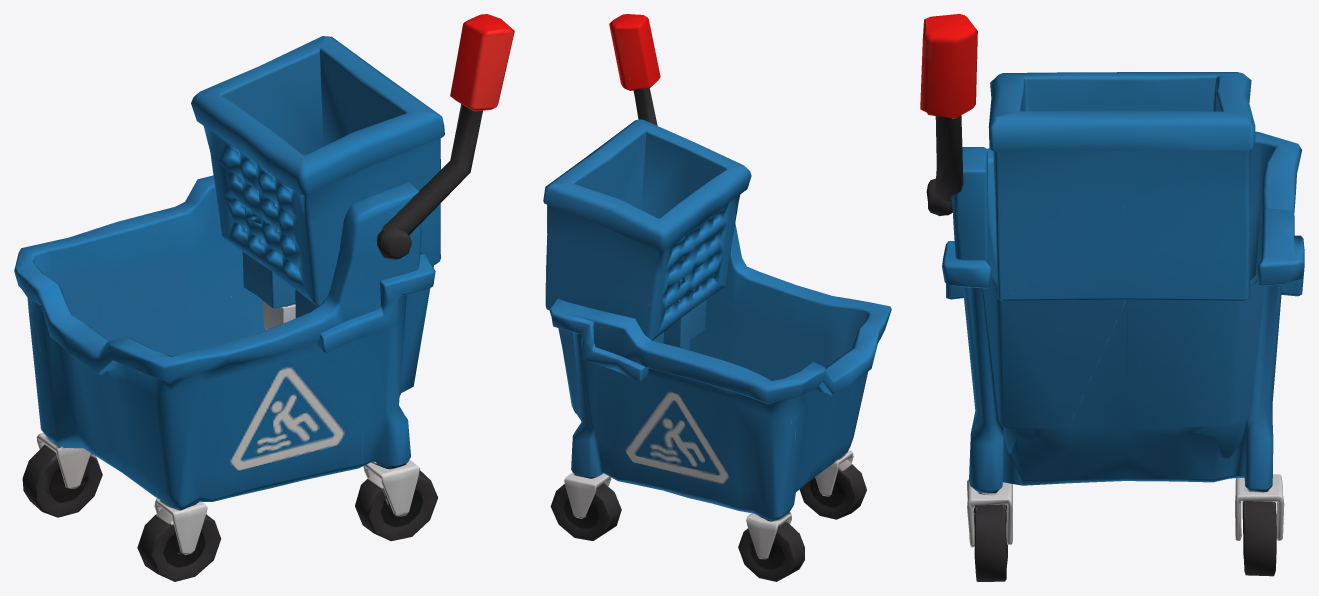
The model's file is MopBucket (1).fbx.
3 views of the same model, side by side, from view 1: azimuth 30°, elevation 25°; view 2: azimuth 150°, elevation 25°; view 3: azimuth 270°, elevation 25° (orthographic). The views are drawn at different scales.
Parts seen in each view (by area): view 1: Mesh_0; view 2: Mesh_0; view 3: Mesh_0.
Part boxes in pixels (x1,y1,x2,y2): Mesh_0: [14, 14, 514, 581]; Mesh_0: [543, 14, 891, 581]; Mesh_0: [920, 14, 1304, 581].
Size of the model in its own units: 75.2 by 100 by 58.59.
Materials: 1 (1 with a texture image).
